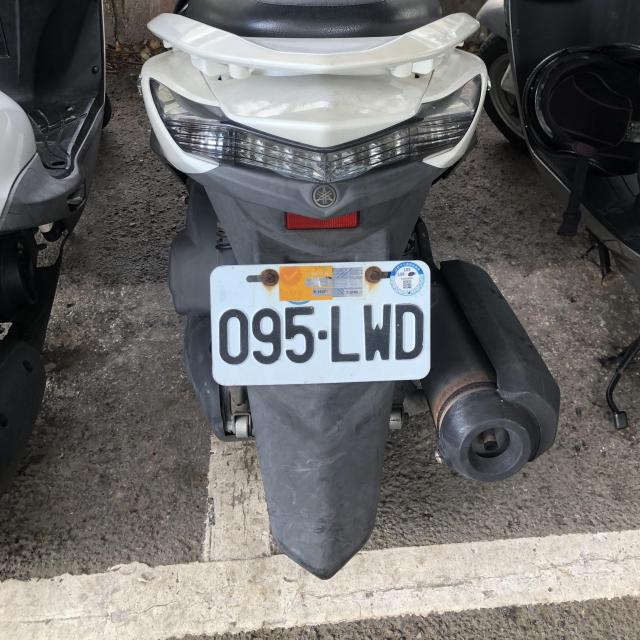W: (209, 260, 429, 385)
